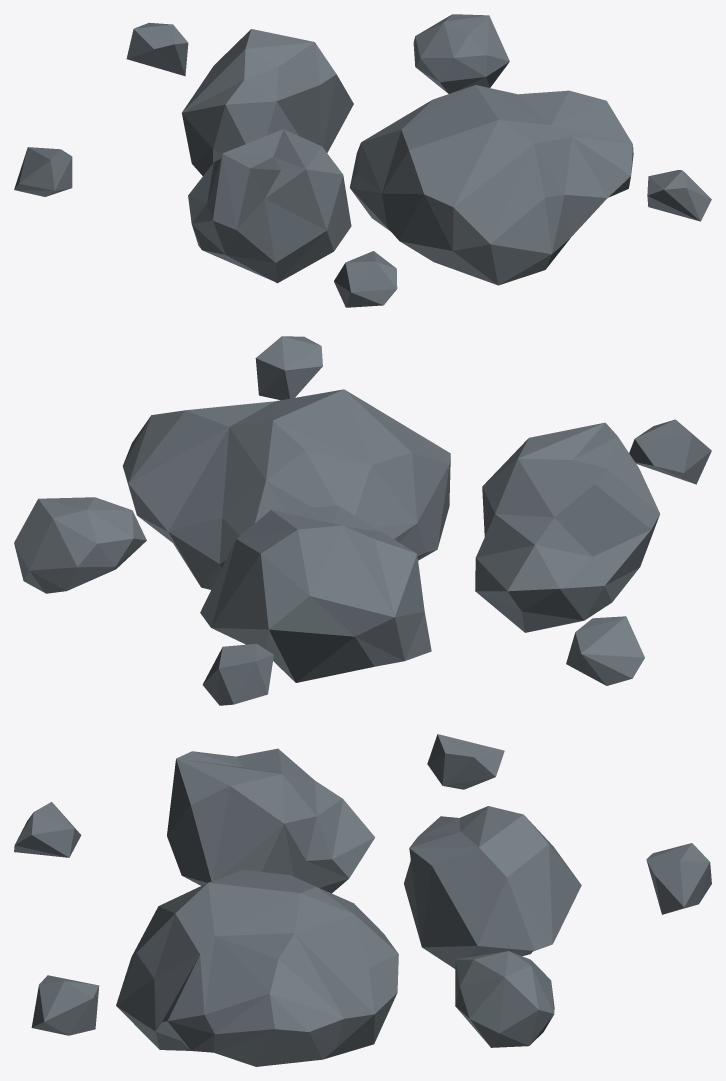
Rendered from SM_Rock_01.fbx.
The picture shows the model from 3 angles, top to bottom: view 1: azimuth 30°, elevation 25°; view 2: azimuth 150°, elevation 25°; view 3: azimuth 270°, elevation 25°; orthographic projection. The views are drawn at different scales.
Visible parts, largest first — view 1: SM_Rock_01; view 2: SM_Rock_01; view 3: SM_Rock_01.
Boxes of the visible parts, box(x1,y1,x2,y2) form: SM_Rock_01: box(14, 14, 711, 307); SM_Rock_01: box(14, 336, 711, 705); SM_Rock_01: box(14, 734, 711, 1066).
Bounding box in the file's own units: 541 × 153 × 574.
